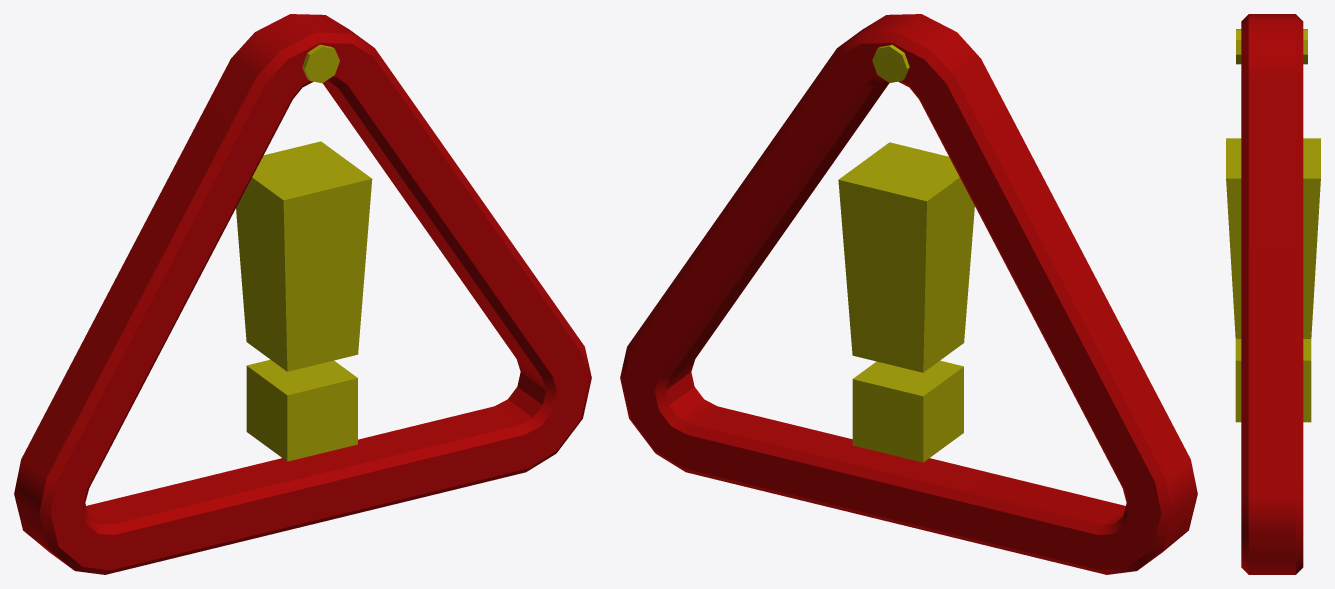
The model's file is bien bao.fbx.
The picture shows the model from 3 angles, left to right: view 1: azimuth 30°, elevation 25°; view 2: azimuth 150°, elevation 25°; view 3: azimuth 270°, elevation 25°; orthographic projection. The views are drawn at different scales.
Parts seen in each view (by area): view 1: bien_bao; view 2: bien_bao; view 3: bien_bao.
Part boxes in pixels (x1,y1,x2,y2): bien_bao: (14, 14, 591, 574); bien_bao: (620, 14, 1197, 574); bien_bao: (1226, 14, 1320, 574).
Size of the model in its own units: 1.38 by 1.17 by 0.2215.
